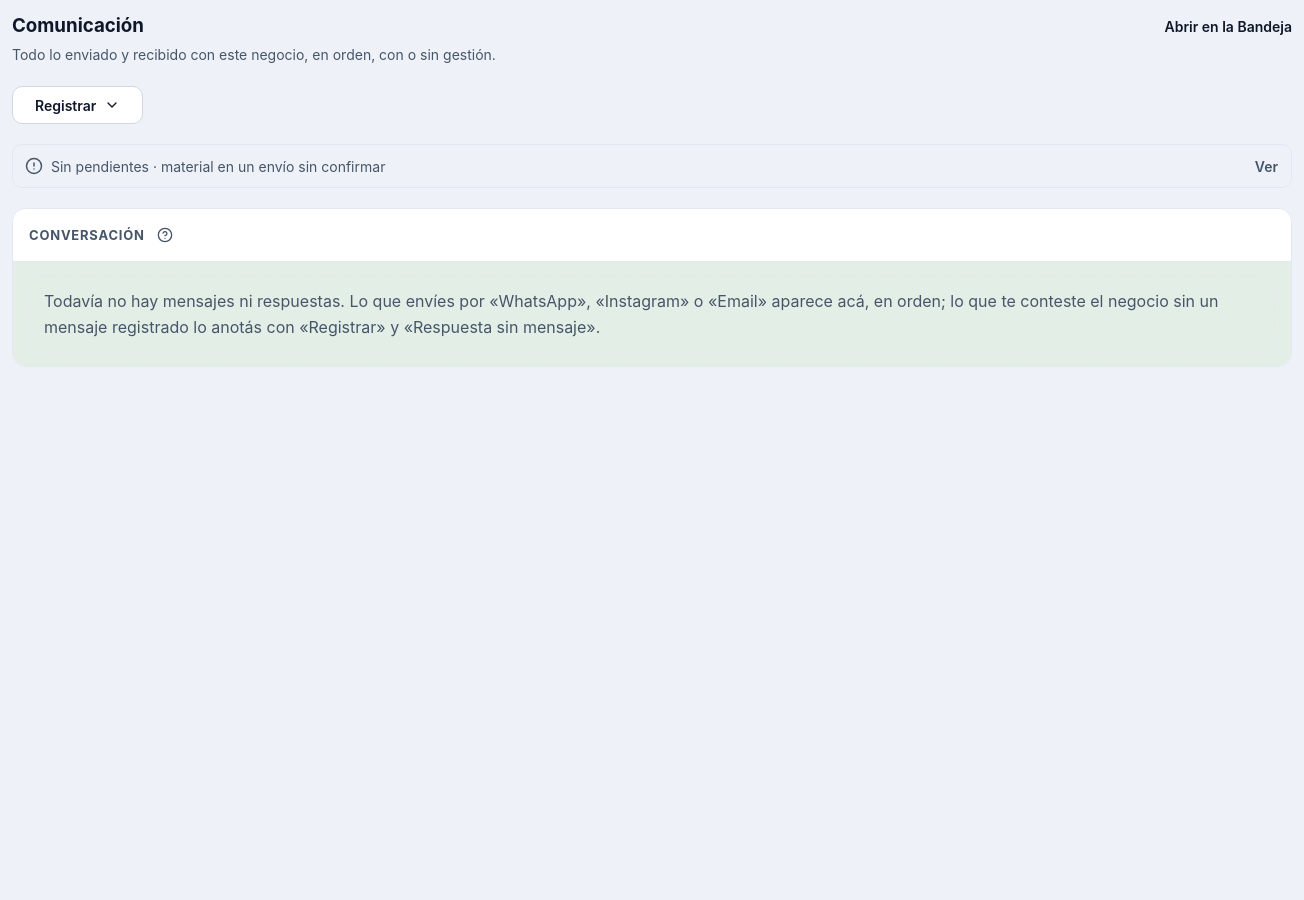
it: CommunicationPanel sales material (spec 89 §8.2, §8.4) › shows the record of someone else's unconfirmed WhatsApp to the business owner, who can still revoke it, without counting it as pending
Expected: the text "Sin pendientes · material en un envío sin confirmar" is shown, [51,158,385,175]
Click the button "Ver" at [1266, 166], box [1246,148,1287,186]
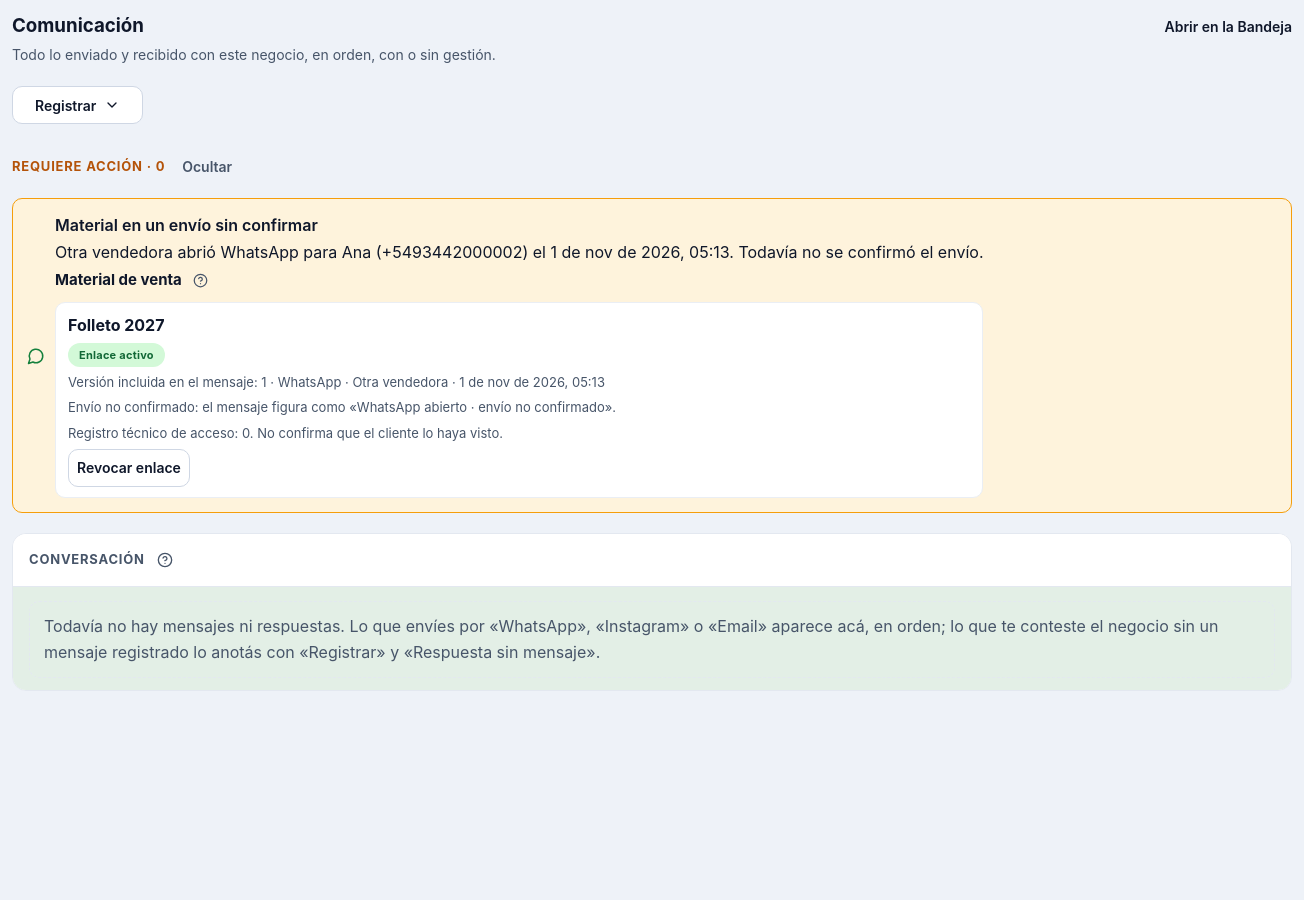
Expected: the text "Otra vendedora abrió WhatsApp para Ana" is shown, [55,240,984,266]
Expected: the text "Versión incluida en el mensaje: 1 · WhatsApp" is shown, [68,374,605,390]
Expected: the button "Revocar enlace" is shown, [68,449,190,487]
